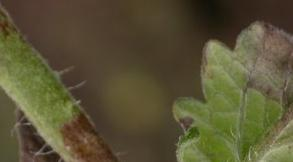Tomato leaf late blight: (162, 10, 293, 162)
